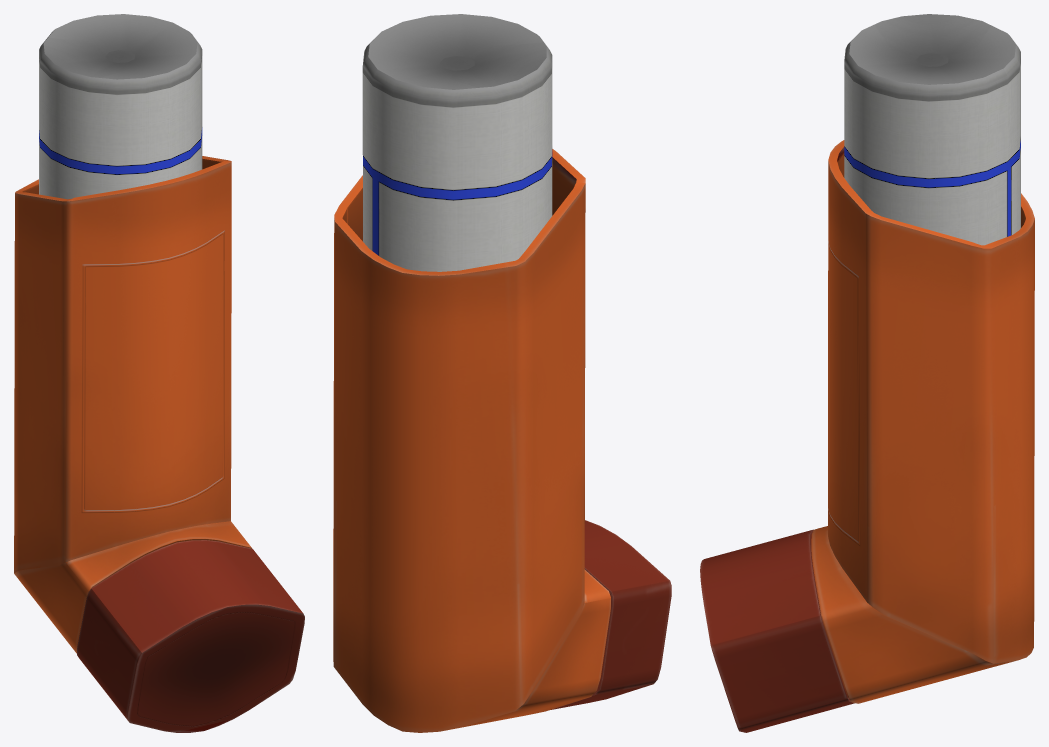
Rendered from inhaler_1.glb.
The picture shows the model from 3 angles, left to right: view 1: azimuth 30°, elevation 25°; view 2: azimuth 150°, elevation 25°; view 3: azimuth 270°, elevation 25°; orthographic projection. The views are drawn at different scales.
Bounding box in the file's own units: 2.69 × 9.52 × 4.29.
Materials: 1 (1 with a texture image).
